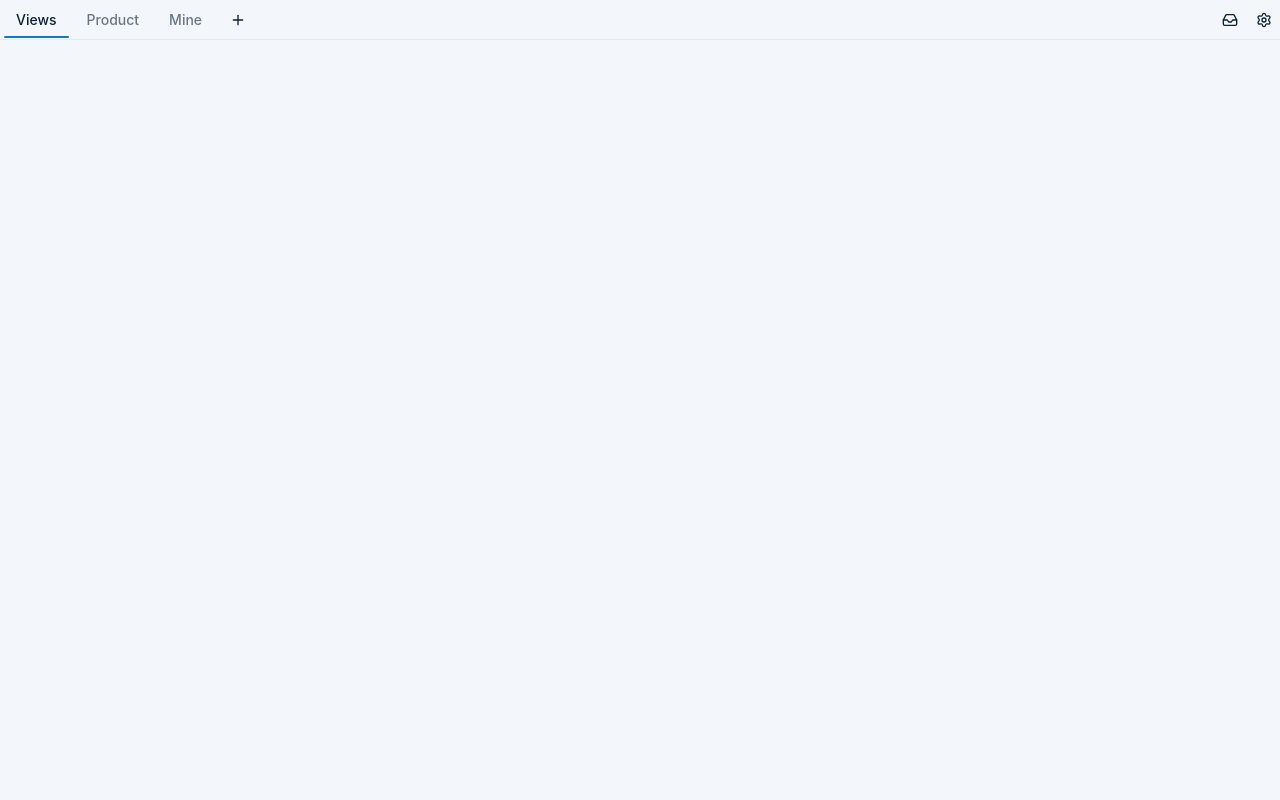
Test: ProjectTabBar › New dashboard… › creates on Enter for the project and closes when it resolves true
Click the button named "Add tab" at (238, 20), box 222,4 -> 254,36
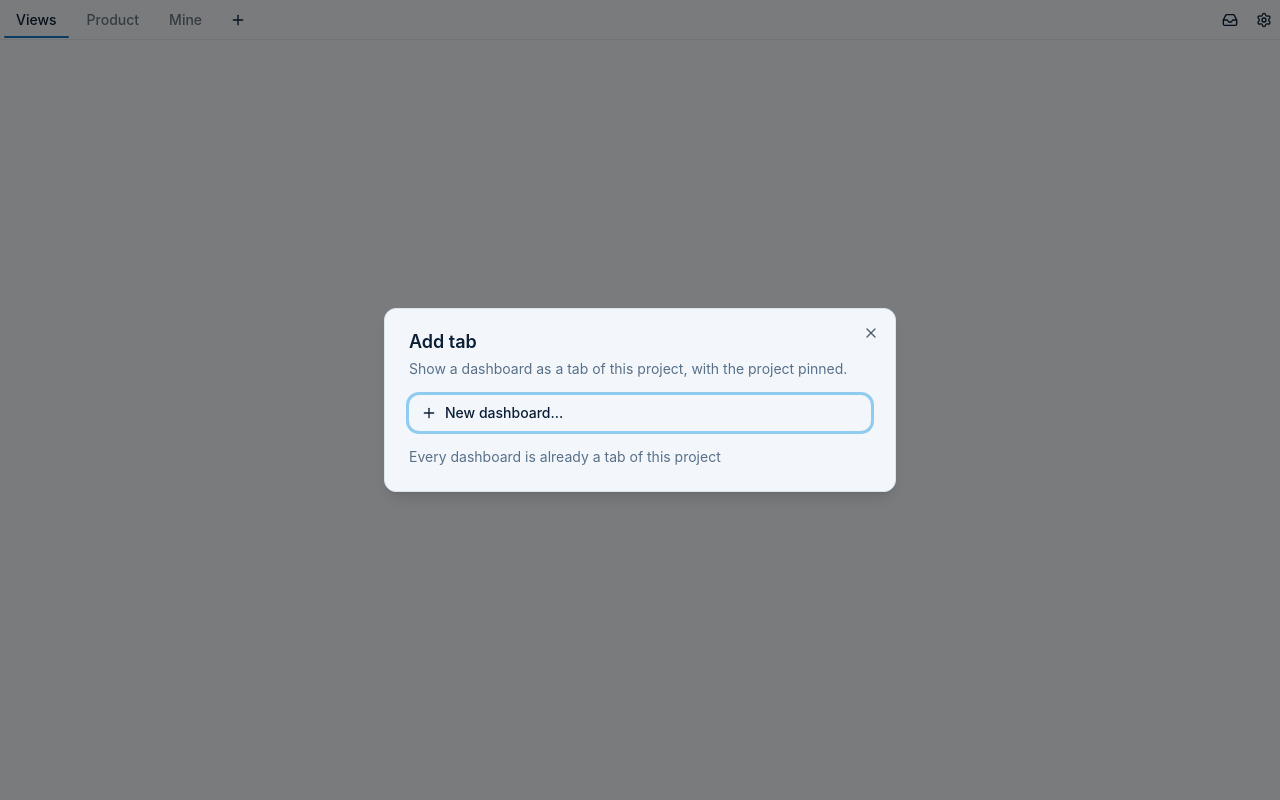
Click the button "New dashboard…" at (504, 412), box 409,395 -> 871,431
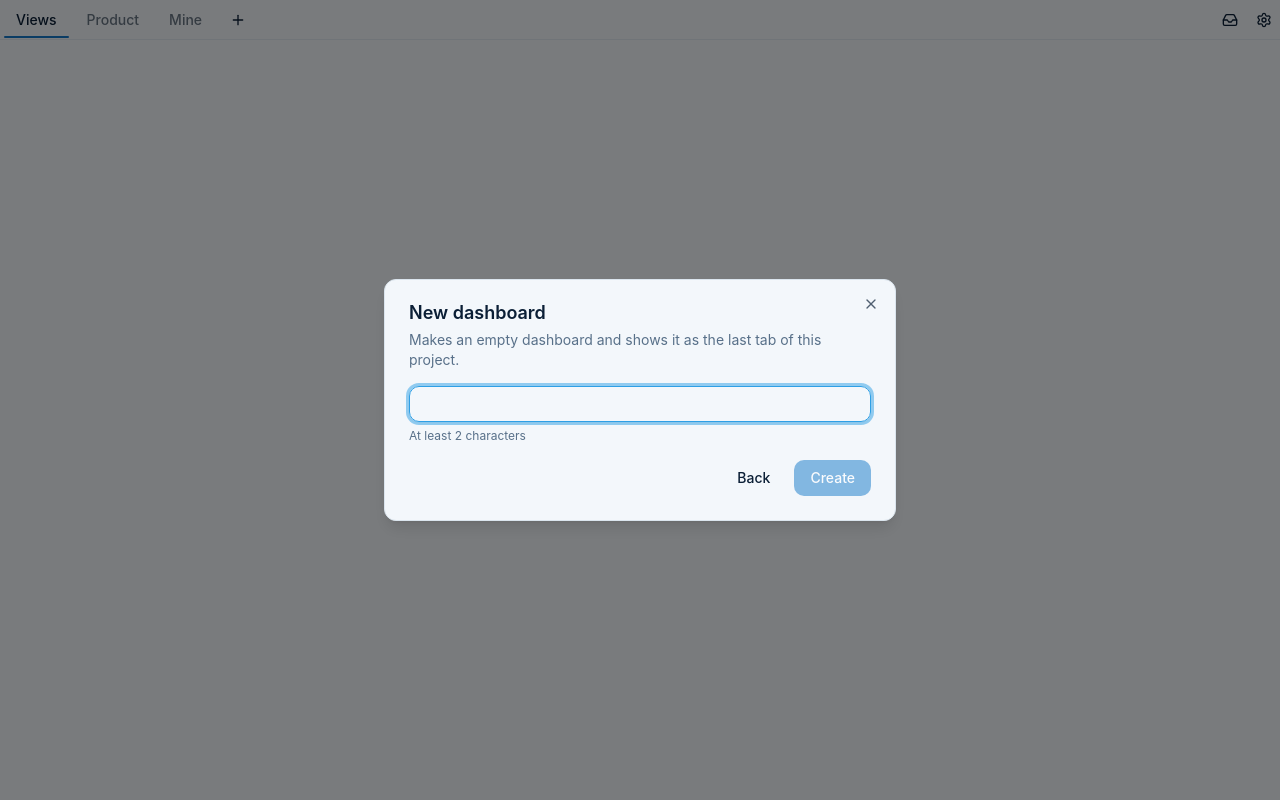
Type " Launch " into the field named "Dashboard title" at (640, 404), box 409,386 -> 871,422
Then press Enter
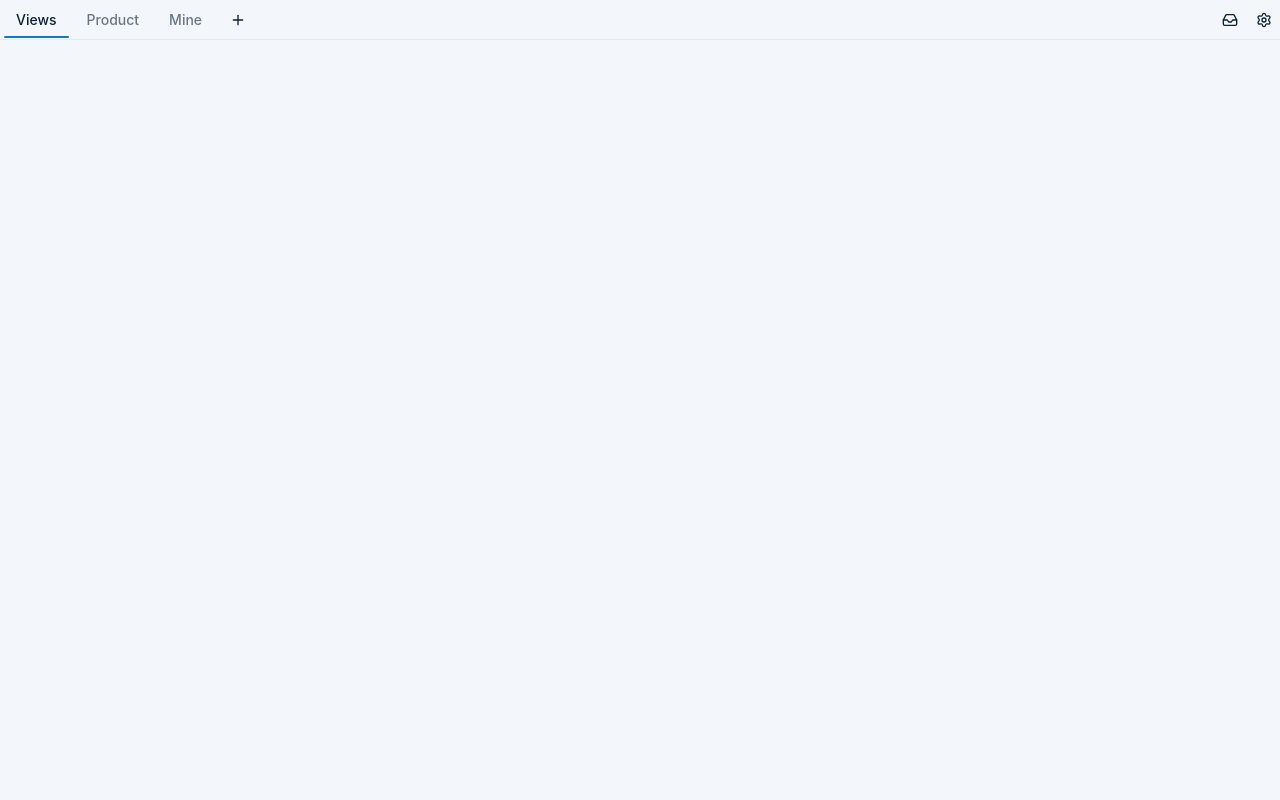
Result: the dialog is gone
